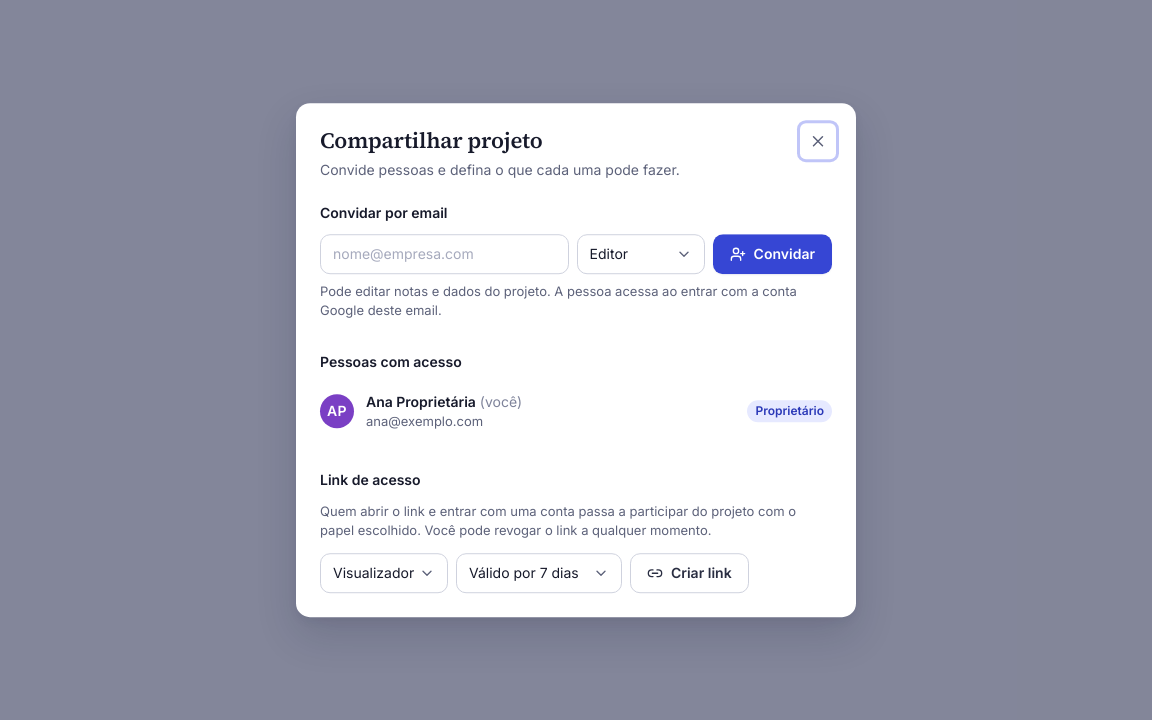
Test: ShareDialog › convidar nunca concede acesso de imediato, mesmo a quem já tem conta
Expected: the text "Ana Proprietária" is shown, [366, 393, 476, 410]
Type "Bruno@Exemplo.com" into the field named "Email da pessoa". click: (444, 254)
box: [320, 234, 569, 274]
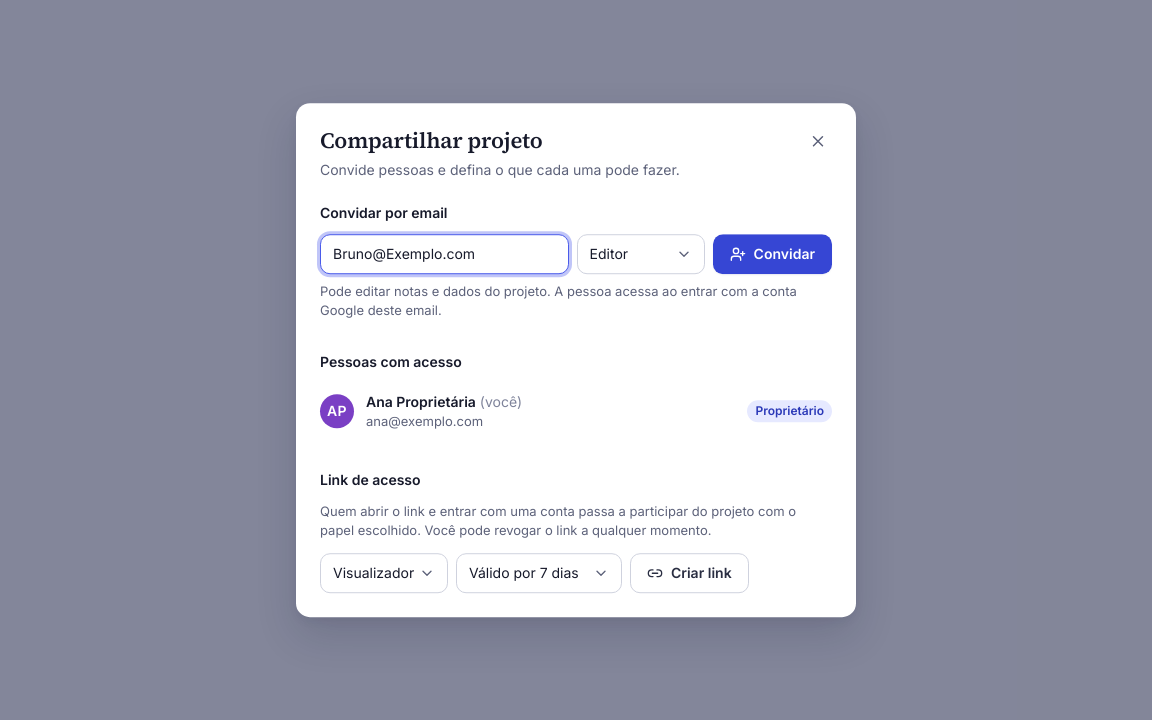
Click the button "Convidar". click: (772, 254)
box: [713, 234, 832, 274]
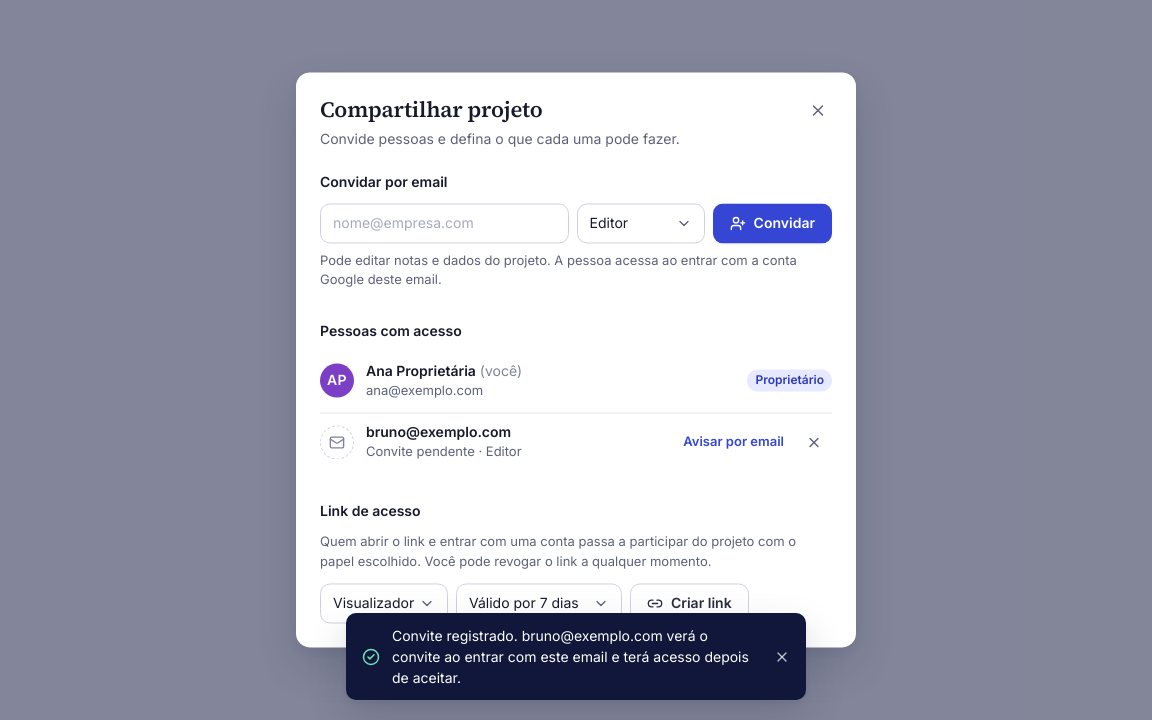
Now the text "Convite pendente · Editor" is shown, box [366, 444, 522, 460]
